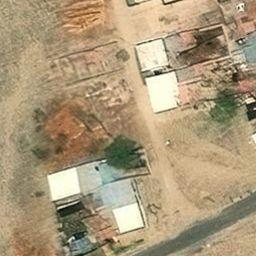manzanas: (131, 1, 254, 137), (45, 147, 154, 253)
